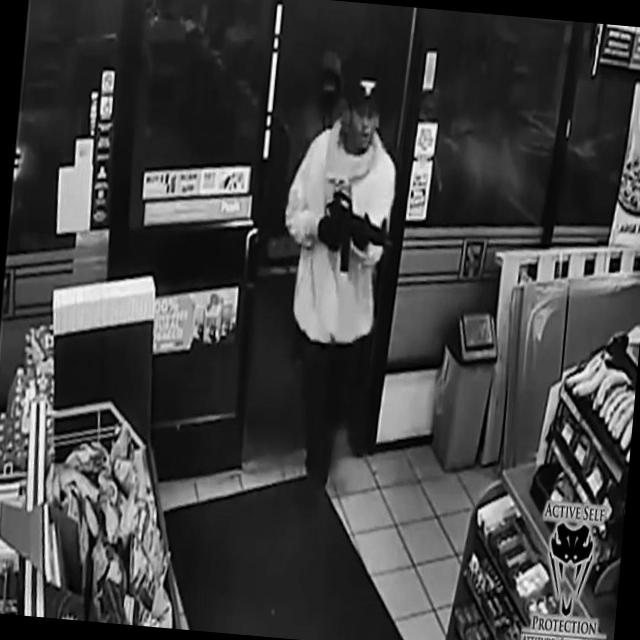gun: (307, 190, 398, 278)
person with a gun: (260, 58, 404, 503)
